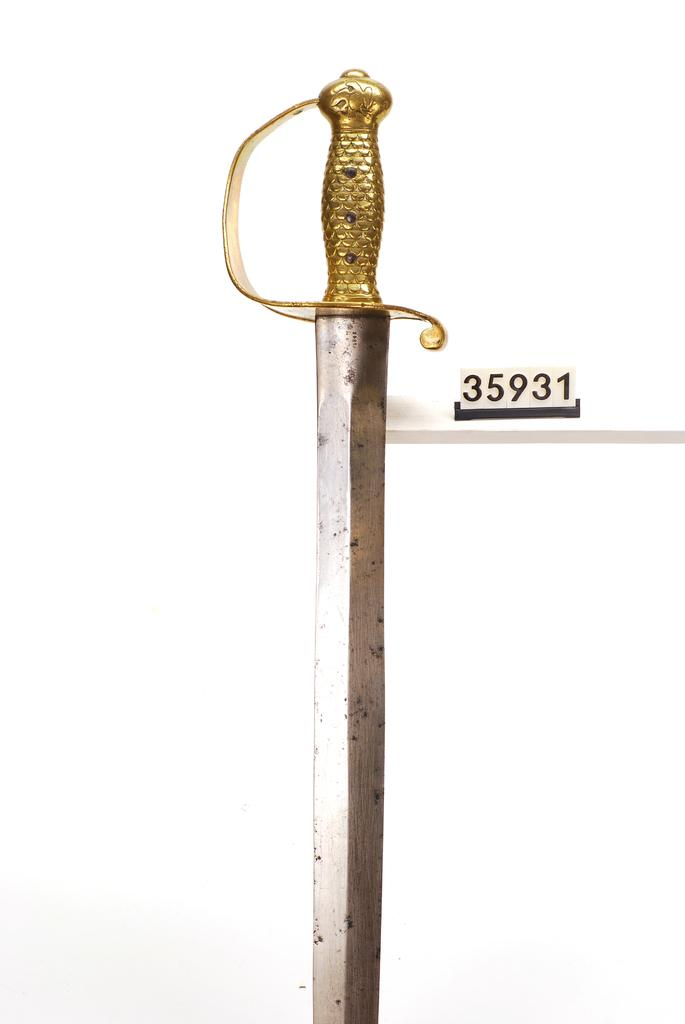Sword: (216, 61, 448, 1023)
